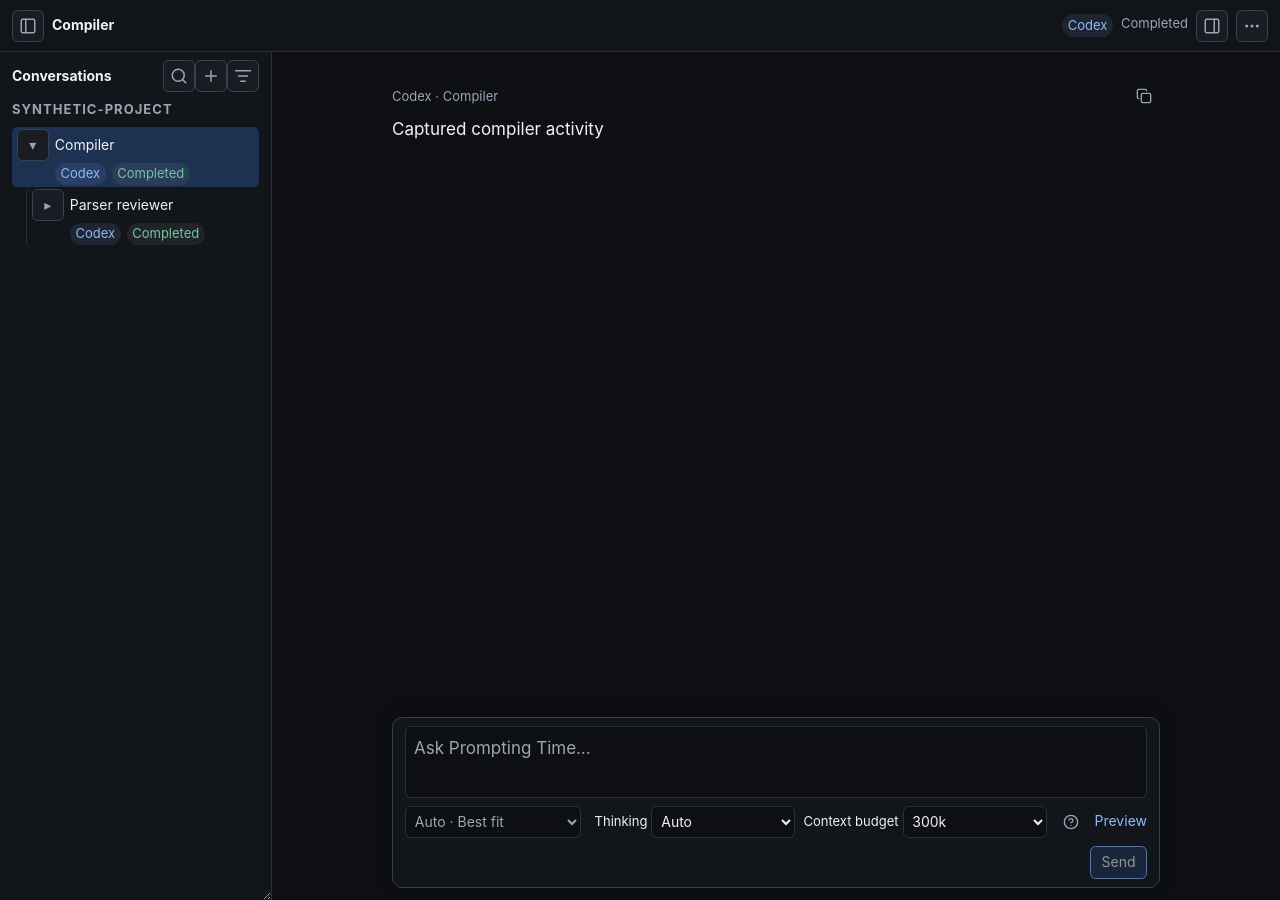
shared conversation hierarchy › opens root, child, and grandchild through the same conversation timeline
Expected: the text "Captured compiler activity" is shown, [392, 119, 604, 139]
Click the list item "▸ Parser reviewer Codex Completed".
click(142, 217)  # box [26, 187, 259, 247]
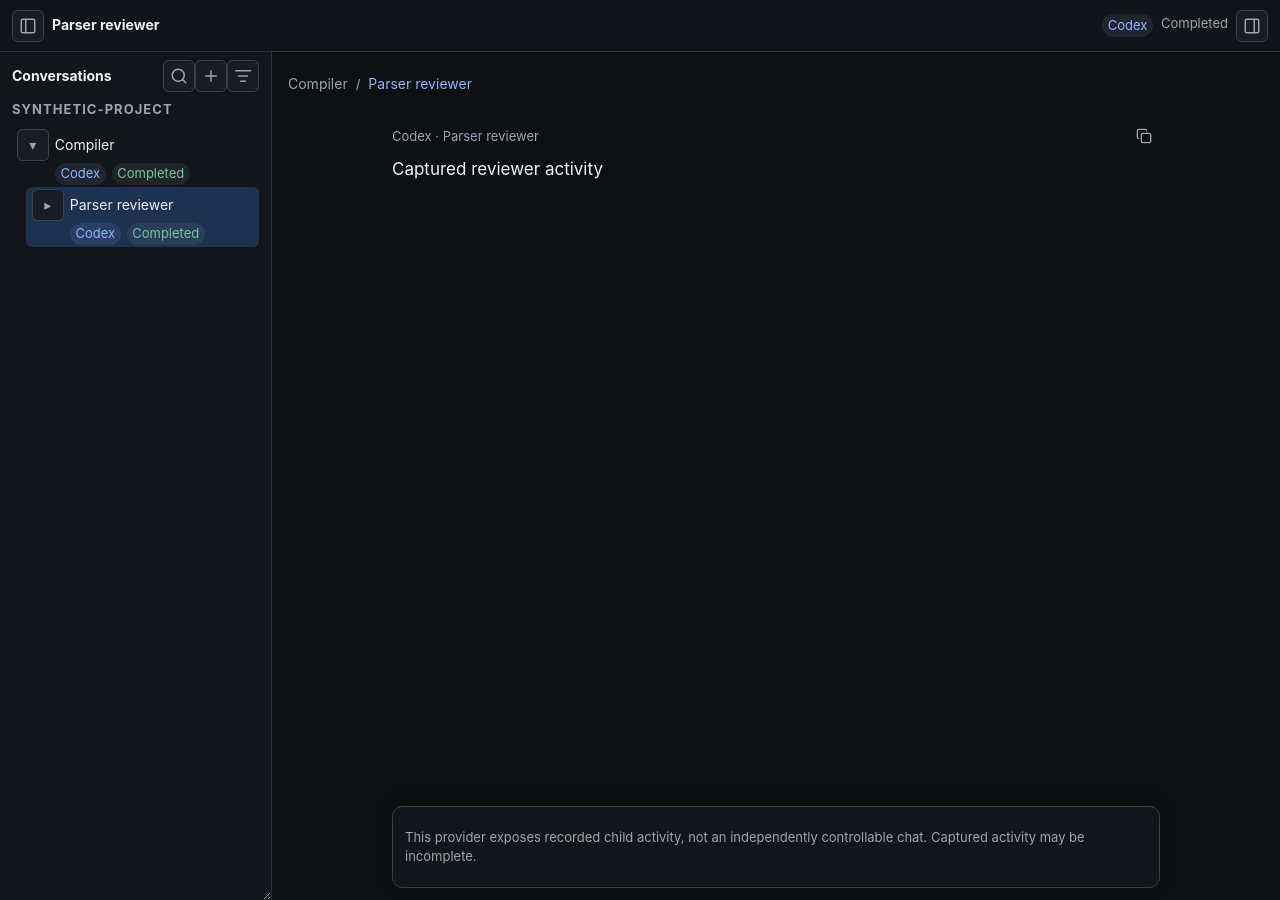
Expected: the list item "Schema researcher" is not shown
Expected: the text "Captured reviewer activity" is shown, [392, 159, 603, 179]
Expected: the text "Captured compiler activity" is gone
Click the button named "Expand Parser reviewer".
click(48, 205)  # box [32, 189, 64, 221]
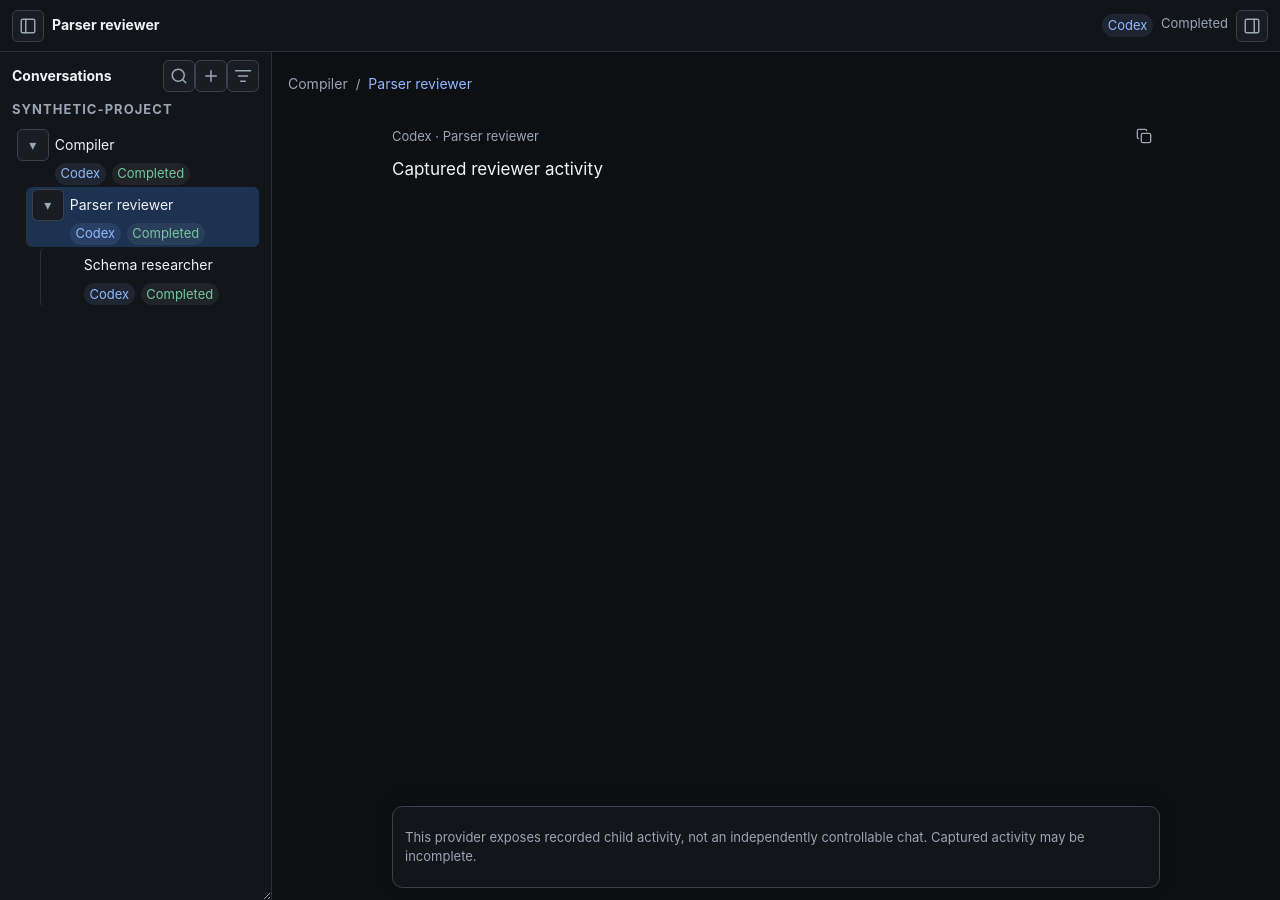
Click the list item "Schema researcher Codex Completed".
click(150, 277)  # box [40, 247, 259, 307]
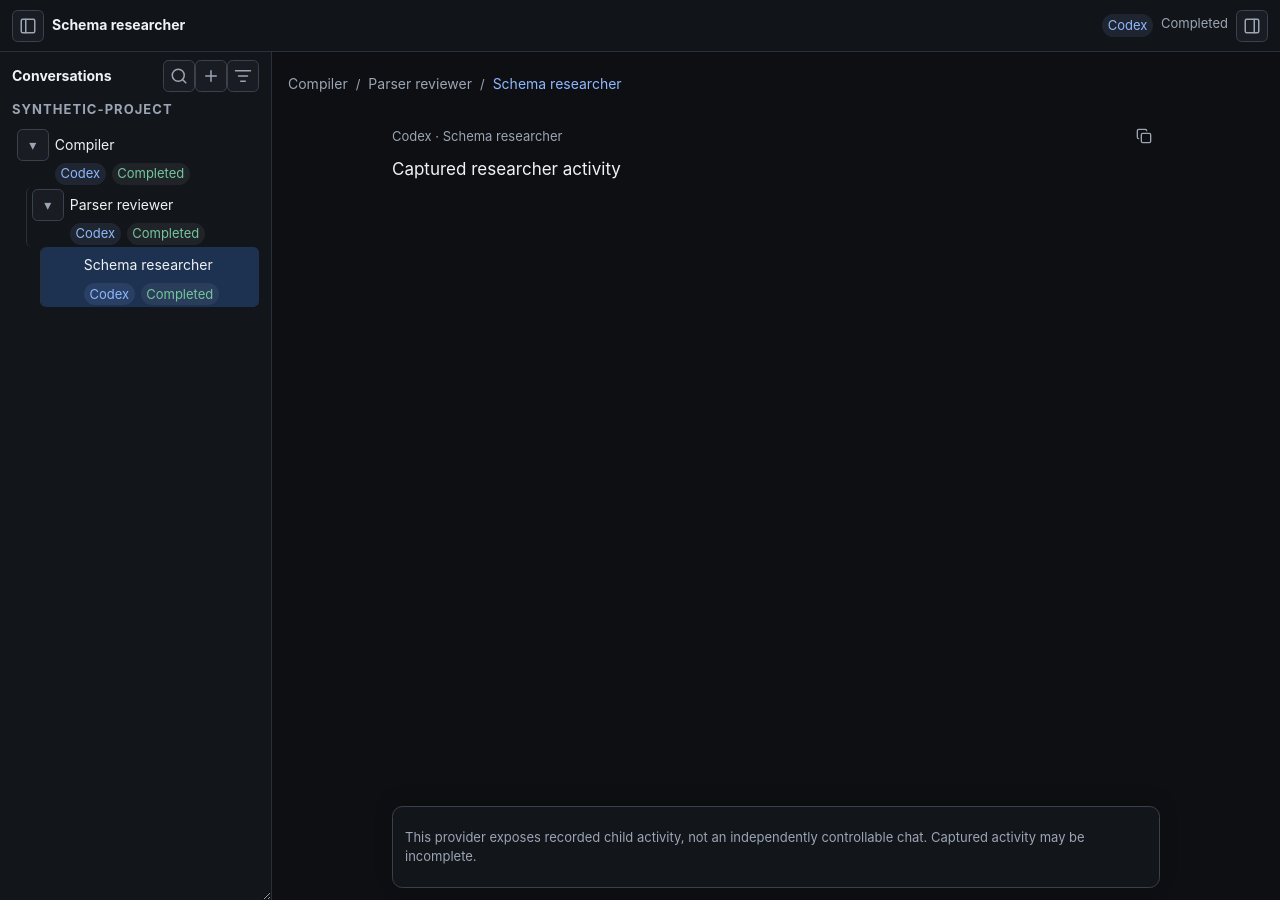
Expected: the text "Captured researcher activity" is shown, [392, 159, 621, 179]
Expected: the text "Captured reviewer activity" is gone
